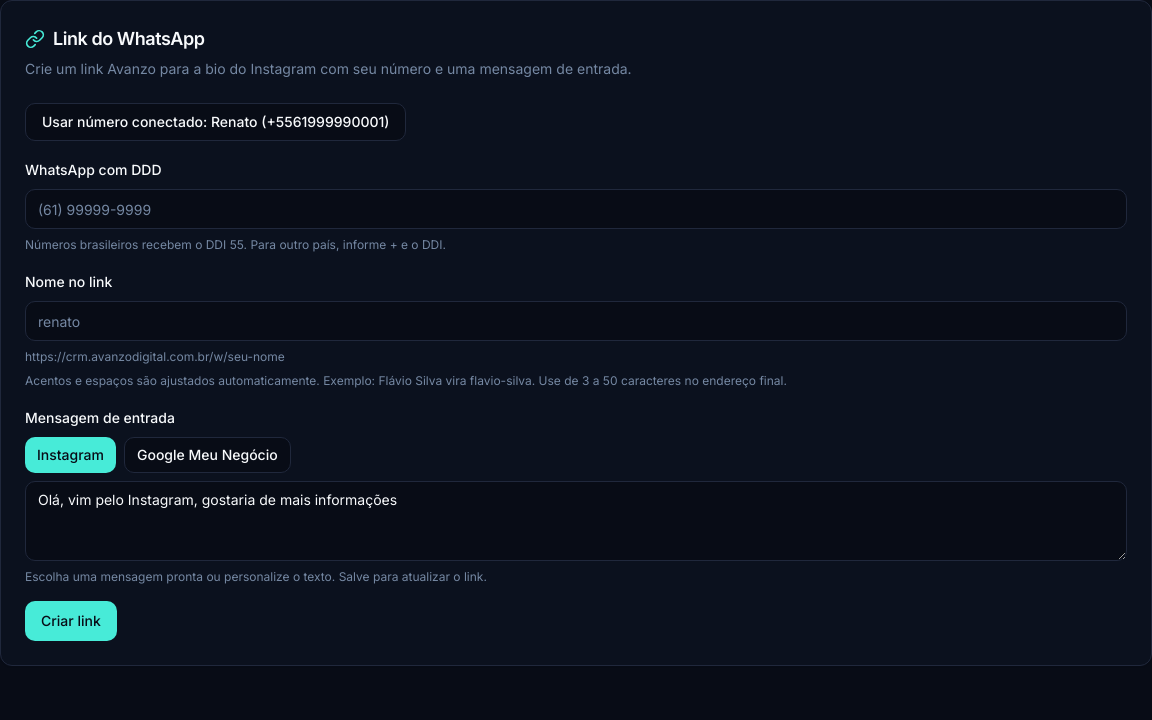
Test: WhatsApp bio links › fills and saves the only connected number with one explicit click
Later steps or results of the test are not shown.
Click the button "Usar número conectado: Renato (+5561999990001)" at (216, 122), box [25,103,406,141]
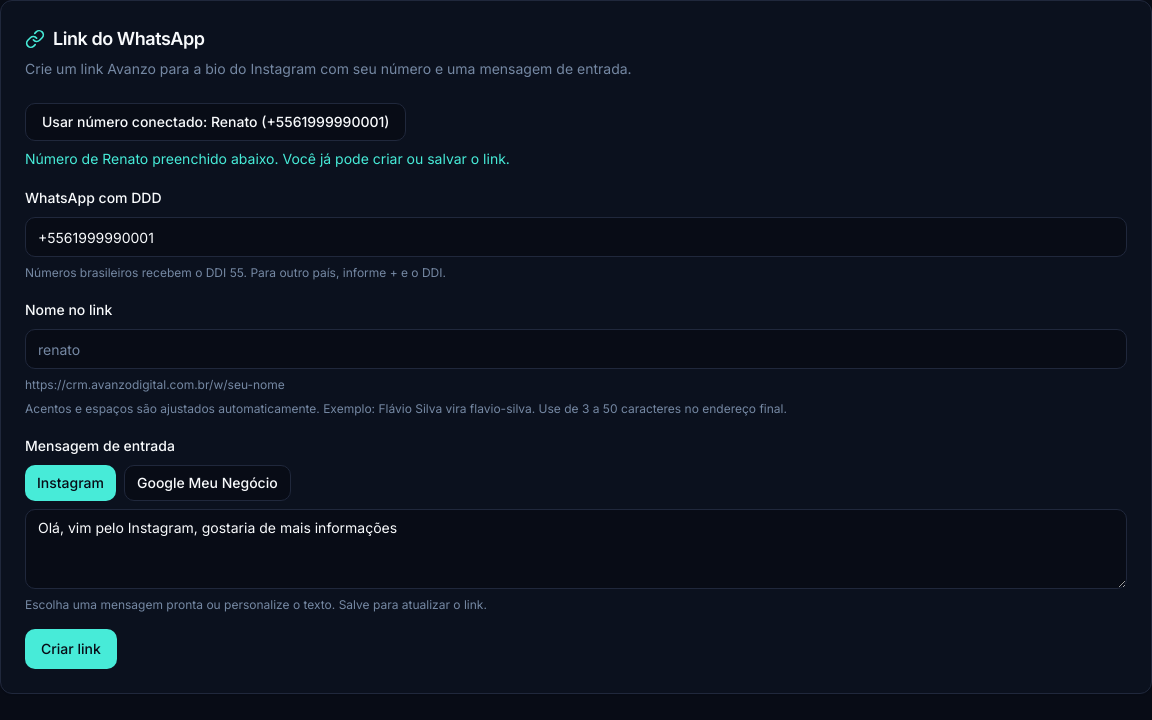
Expected: the field labelled "WhatsApp com DDD" holds "+5561999990001", [25,217,1127,257]
Expected: the message shows "Número de Renato preenchido", [25,150,510,167]
